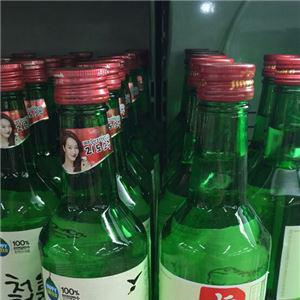soju: (1, 47, 300, 298)
